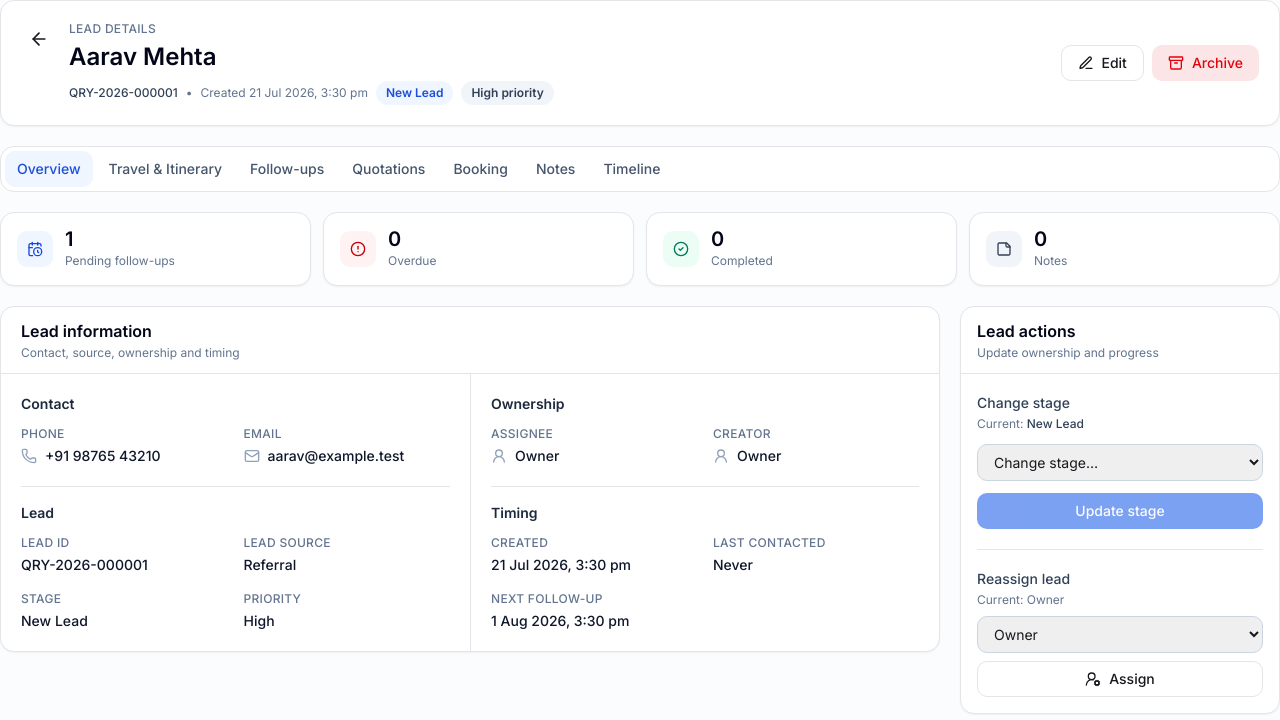
Phase 17 lead workspace tabs › explains the accepted-quotation rule on the Booking tab when unbooked
Check: the heading "Aarav Mehta" is shown, box [69,42,216,71]
Click the button "Booking".
click(481, 169)  # box [441,151,520,187]
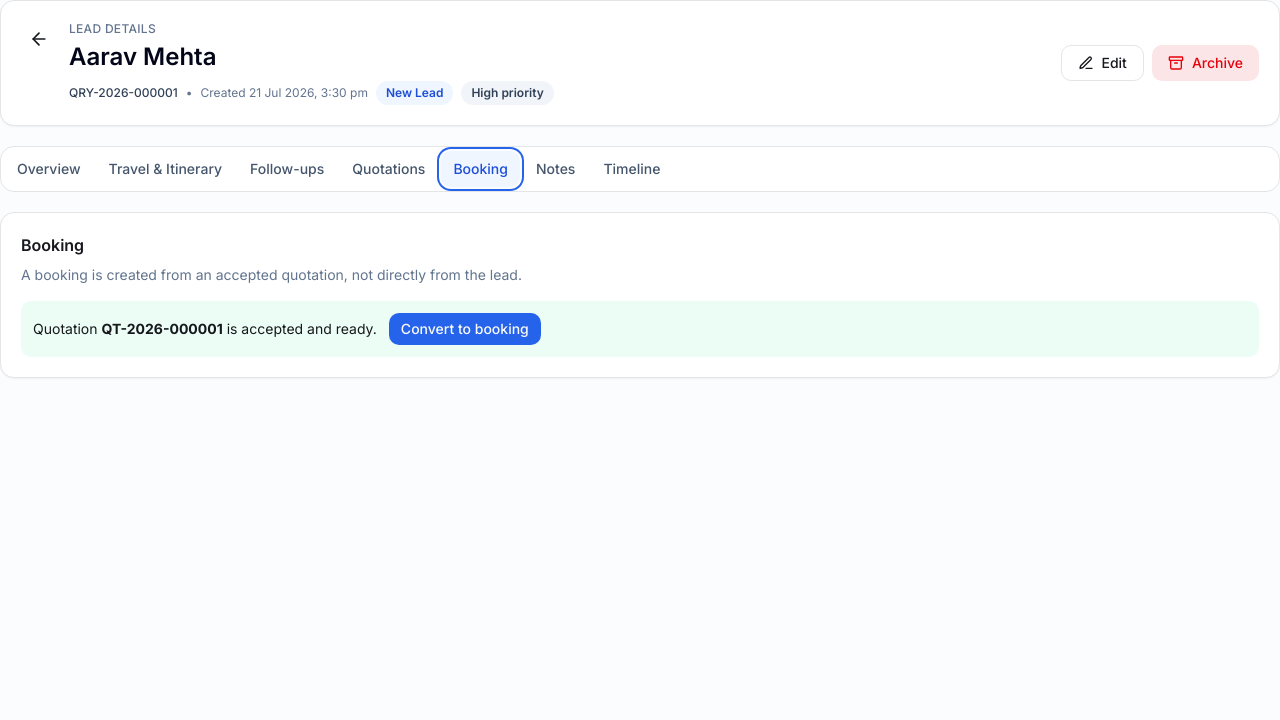
Check: the text "created from an accepted quotation" is shown, box [21,266,522,283]
Check: the button "Convert to booking" is shown, box [389,313,541,345]
